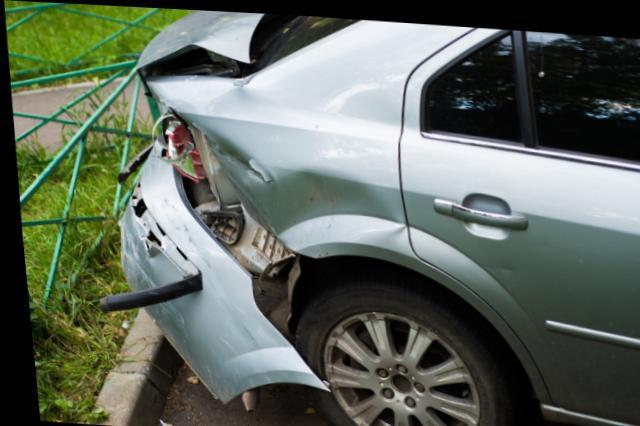dent: (196, 119, 402, 244)
dislocated part: (112, 140, 316, 403)
lamp broken: (162, 113, 218, 207)
